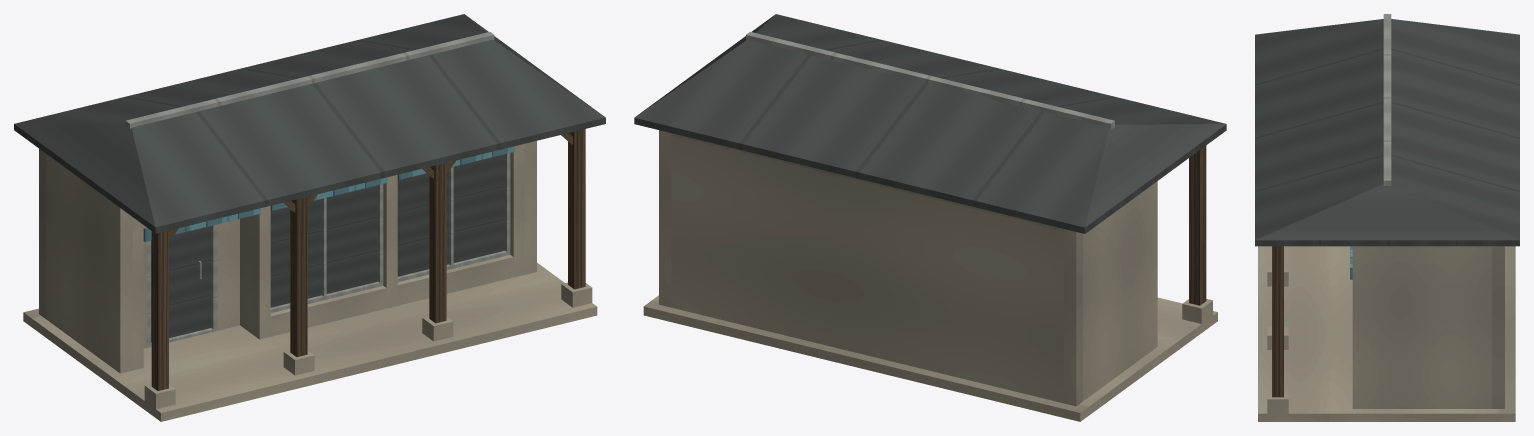
3 renders of one model, left to right at view 1: azimuth 30°, elevation 25°; view 2: azimuth 150°, elevation 25°; view 3: azimuth 270°, elevation 25°, orthographic. The views are drawn at different scales.
Visible parts, largest first — view 1: buenos-aires; view 2: buenos-aires; view 3: buenos-aires.
Boxes of the visible parts, bbox=[...] form: buenos-aires: bbox=[14, 14, 605, 421]; buenos-aires: bbox=[634, 14, 1226, 421]; buenos-aires: bbox=[1255, 14, 1519, 421].
Bounding box in the file's own units: 7.25 × 3.7 × 3.95.
1 material, 1 textured.
